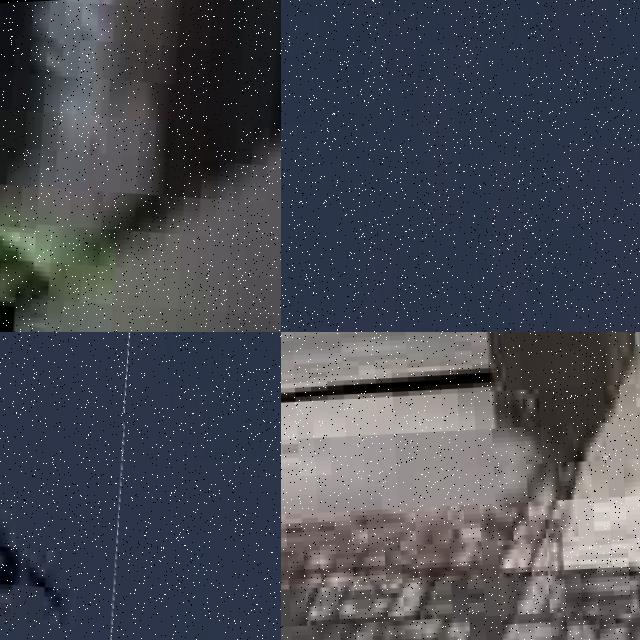drone: (0, 0, 281, 332), (0, 332, 143, 640)
